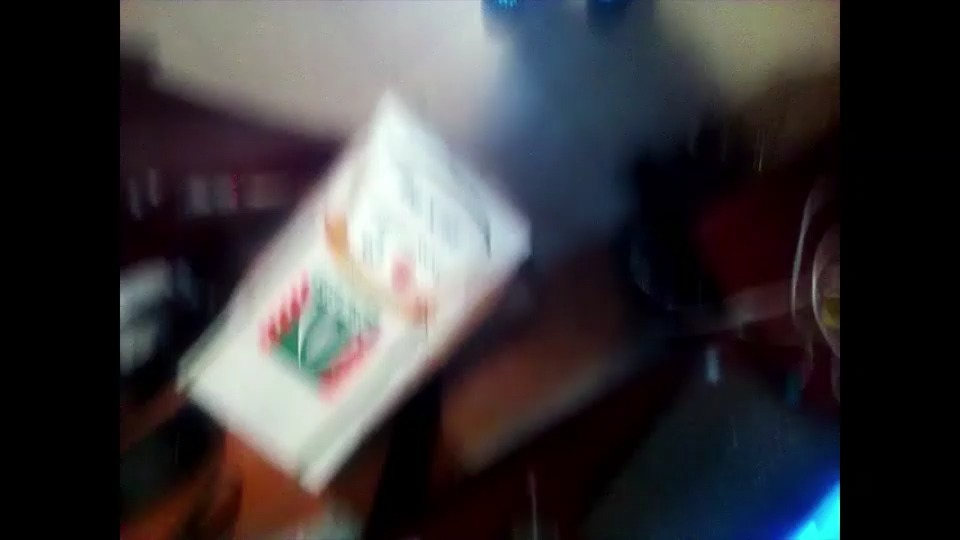maize_flour_green_label: (171, 107, 527, 495)
